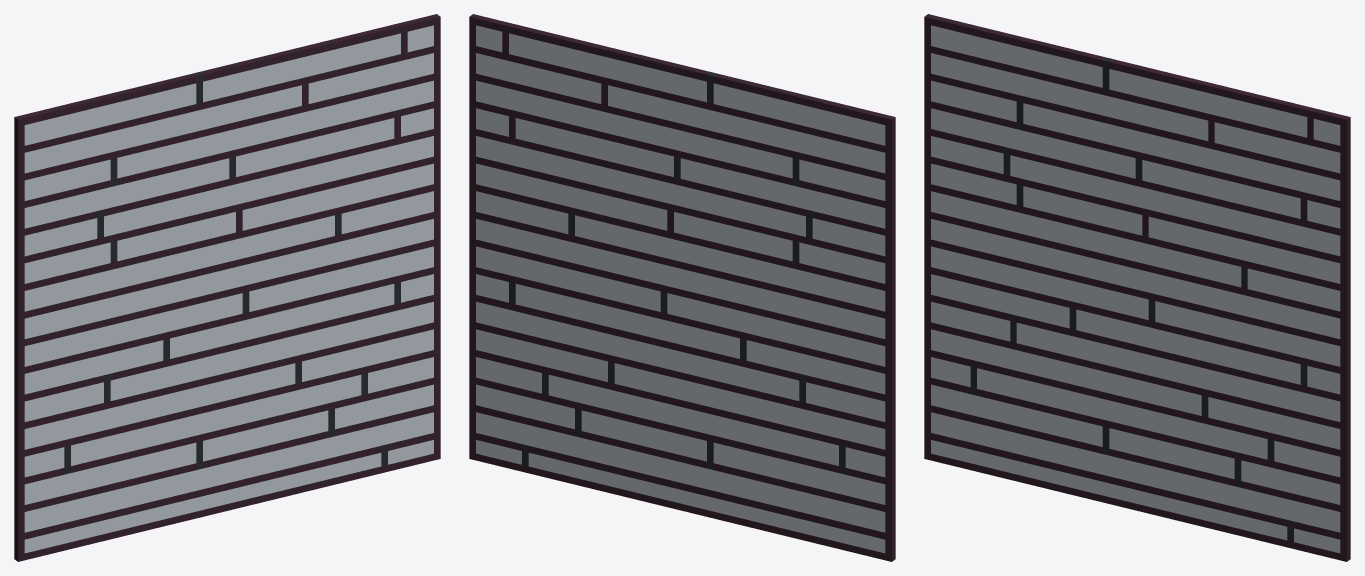
File: Wood Floor (64x1x64).fbx
3 renders of one model, left to right at view 1: azimuth 30°, elevation 25°; view 2: azimuth 150°, elevation 25°; view 3: azimuth 330°, elevation 25°, orthographic.
Visible parts, largest first — view 1: generated; view 2: generated; view 3: generated.
Part boxes in pixels (x1,y1,x2,y2): generated: [14, 14, 440, 561]; generated: [469, 14, 895, 561]; generated: [924, 14, 1350, 561].
Size of the model in its own units: 2560 by 2560 by 40.
